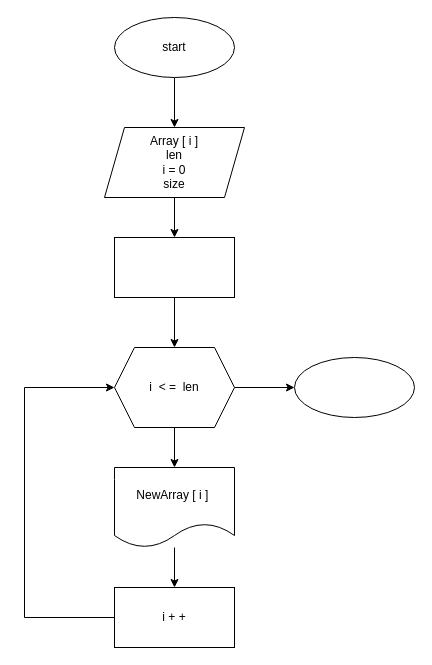
Image size: 432x665. Some labels were removed from this diagram. Here are the shapes that lost their labels. From the top down, the centre of each, then its label:
At [174,267]: "len = (0 - 3) i = (0 - size)".
At [354,387]: "end".
